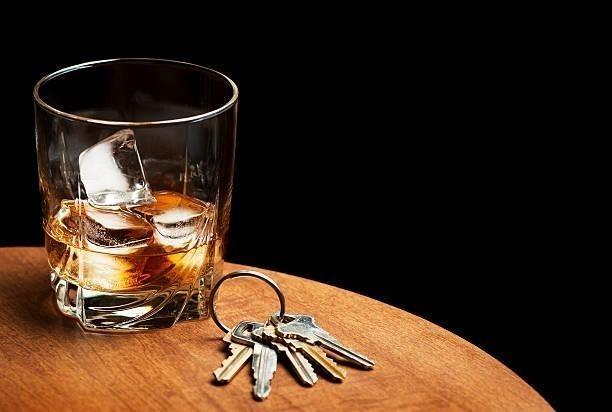glass-normal: (31, 56, 239, 336)
